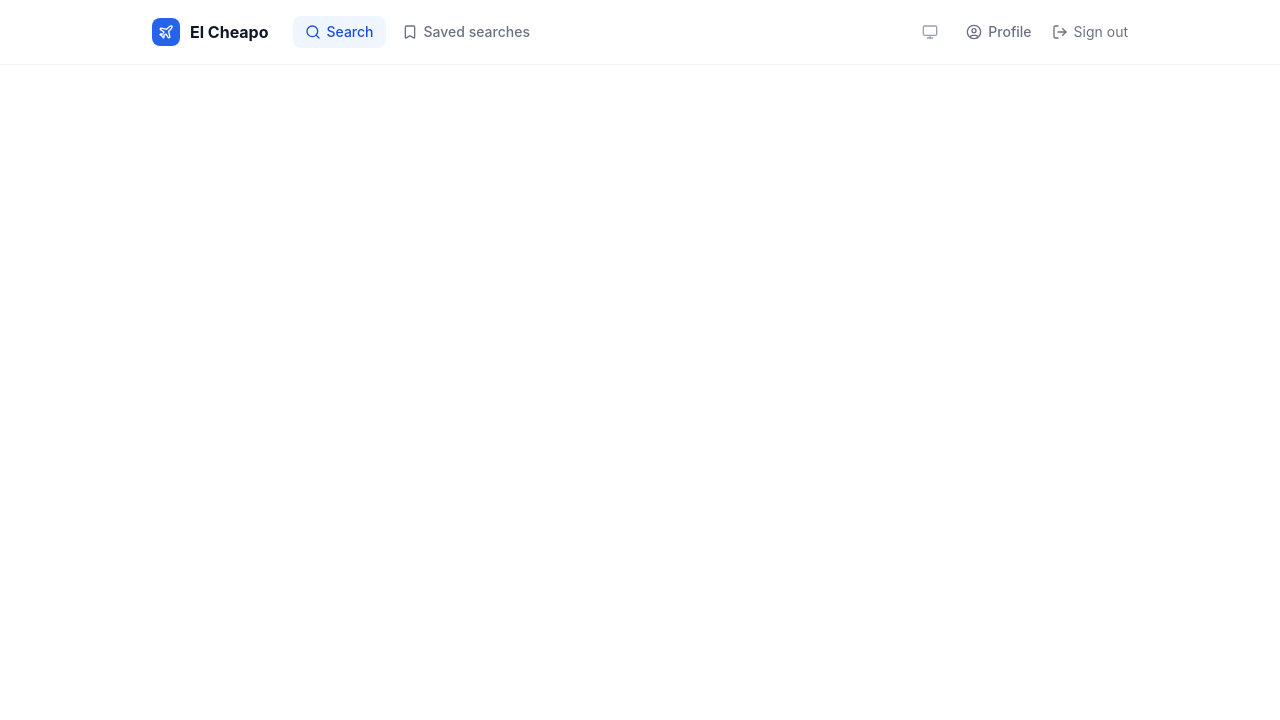
Test: Navbar › cycles through themes on button click without crashing
The width and height of the screenshot is (1280, 720).
What coordinates should you click on to do the following:
click the button named "theme"
I would click on:
 (930, 32)
Its box is x1=914 y1=16 x2=946 y2=48.
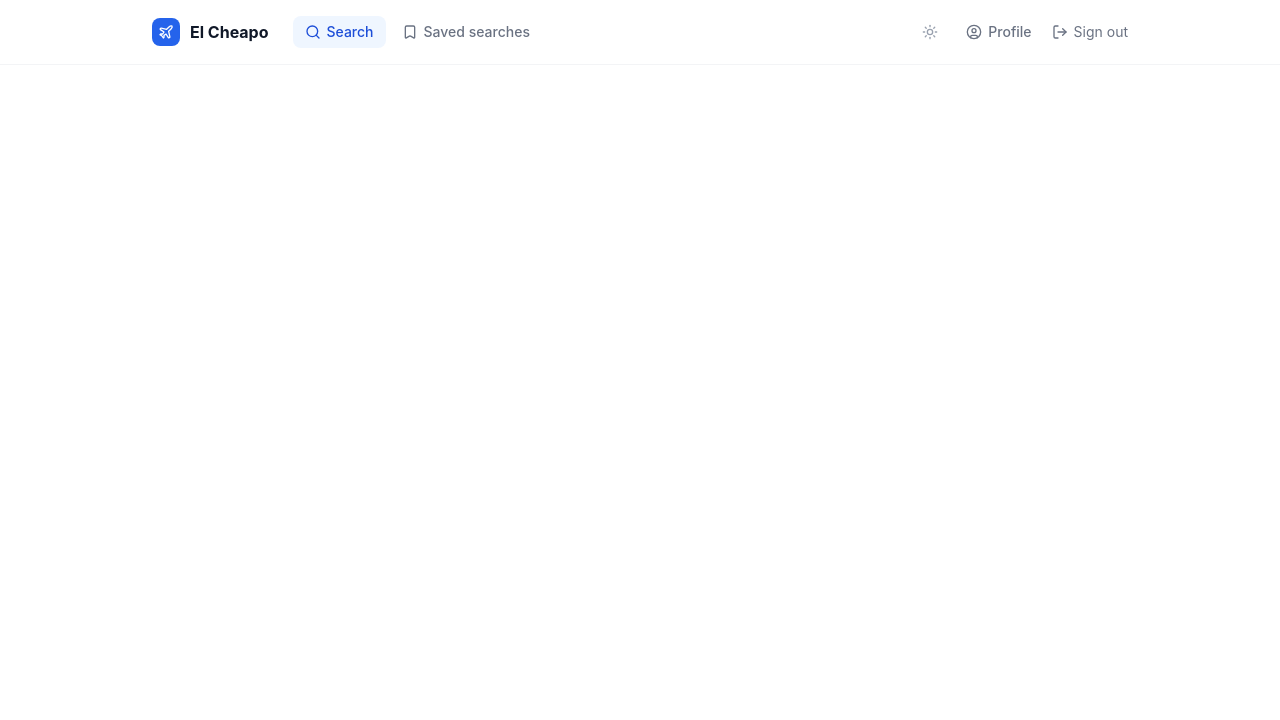
What coordinates should you click on to do the following:
click the button named "theme"
I would click on:
 (930, 32)
Its box is x1=914 y1=16 x2=946 y2=48.
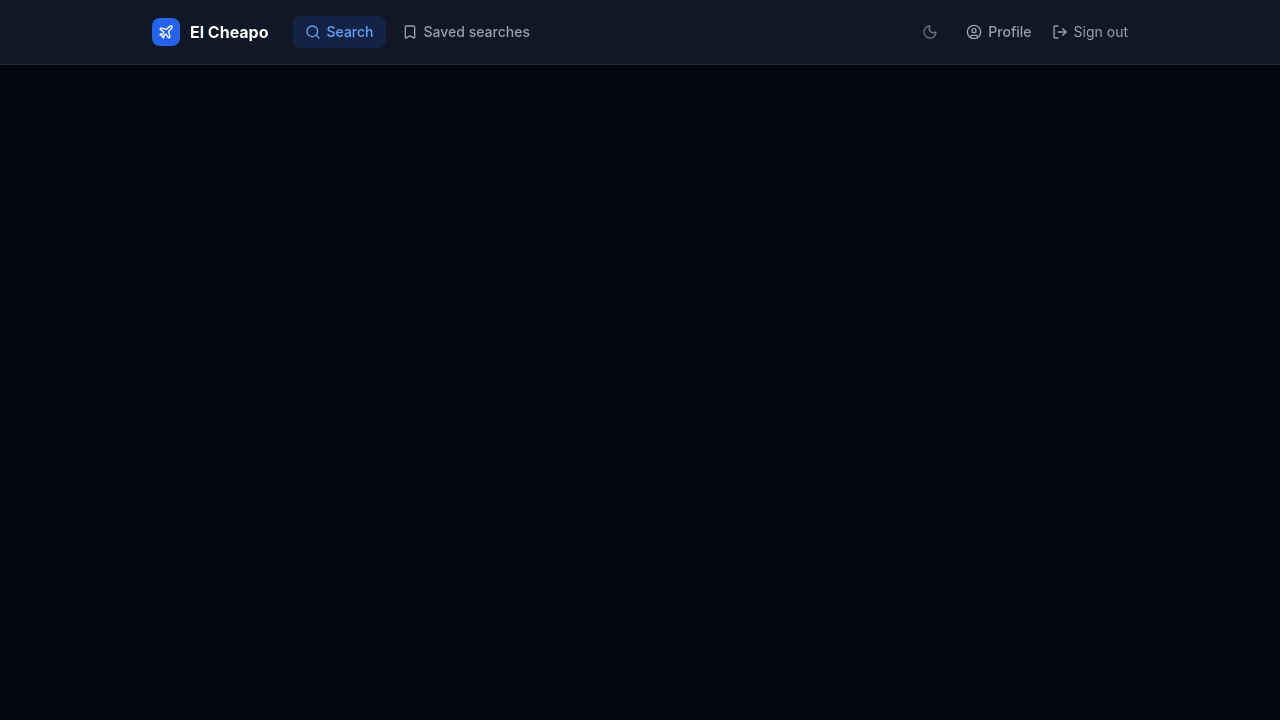
What coordinates should you click on to do the following:
click the button named "theme"
I would click on:
 (930, 32)
Its box is x1=914 y1=16 x2=946 y2=48.
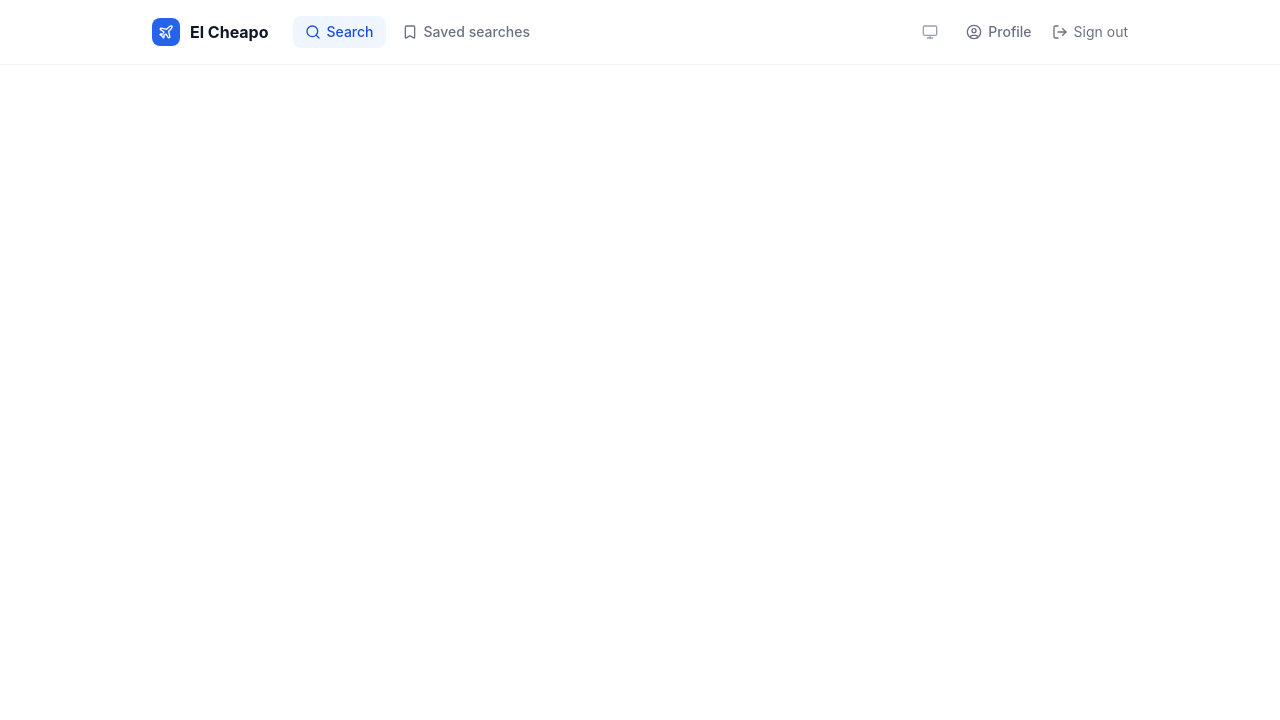
Check: the button named "theme" is shown, box x1=914 y1=16 x2=946 y2=48
